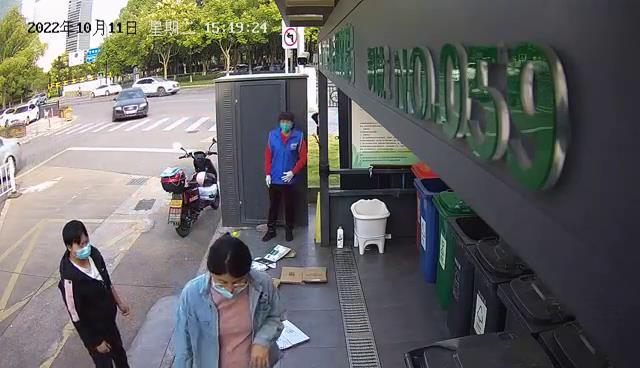person: (56, 218, 132, 368)
worker: (171, 231, 285, 368), (261, 109, 309, 242)
zhizhipin: (250, 243, 296, 271), (280, 264, 328, 285), (276, 319, 309, 349)
